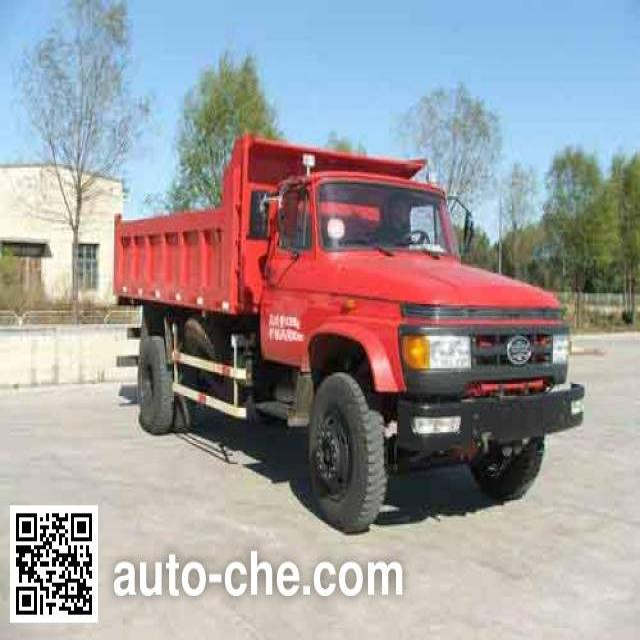normal_truck: (110, 131, 585, 533)
